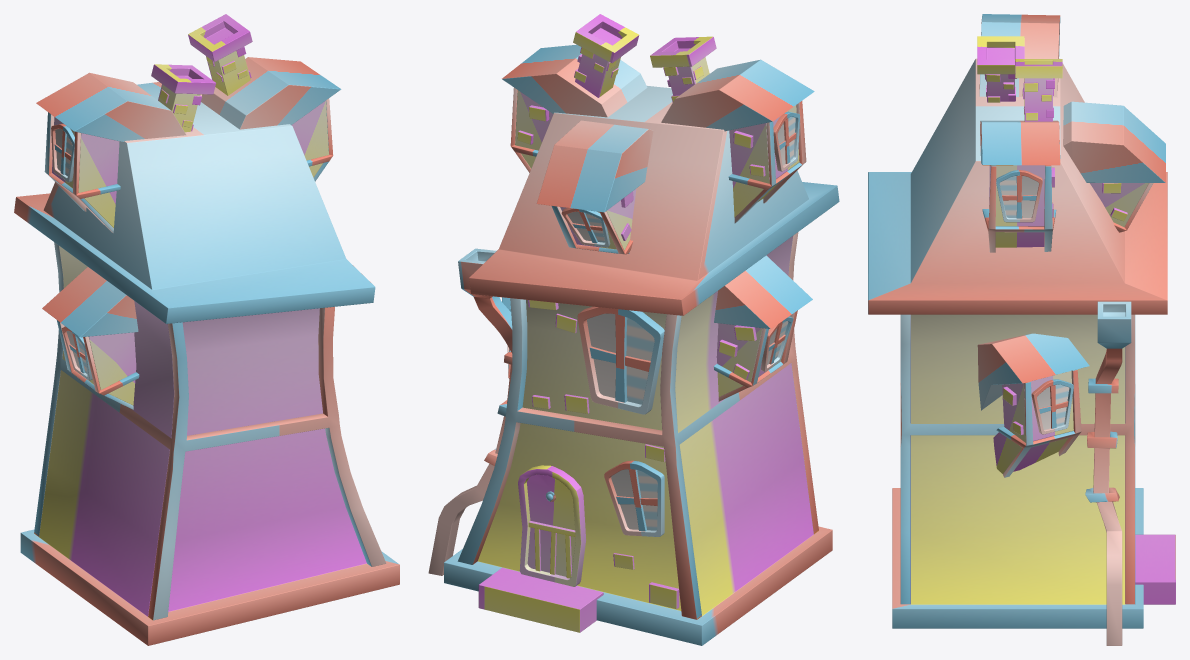
Rendered from HouseB_v1.fbx.
The picture shows the model from 3 angles, left to right: view 1: azimuth 30°, elevation 25°; view 2: azimuth 150°, elevation 25°; view 3: azimuth 270°, elevation 25°; orthographic projection. The views are drawn at different scales.
Parts seen in each view (by area): view 1: HouseB_v1; view 2: HouseB_v1; view 3: HouseB_v1.
Part boxes in pixels (x1,y1,x2,y2): HouseB_v1: [14, 14, 399, 645]; HouseB_v1: [428, 14, 839, 645]; HouseB_v1: [868, 14, 1175, 645].
Bounding box in the file's own units: 741 × 1234 × 655.
